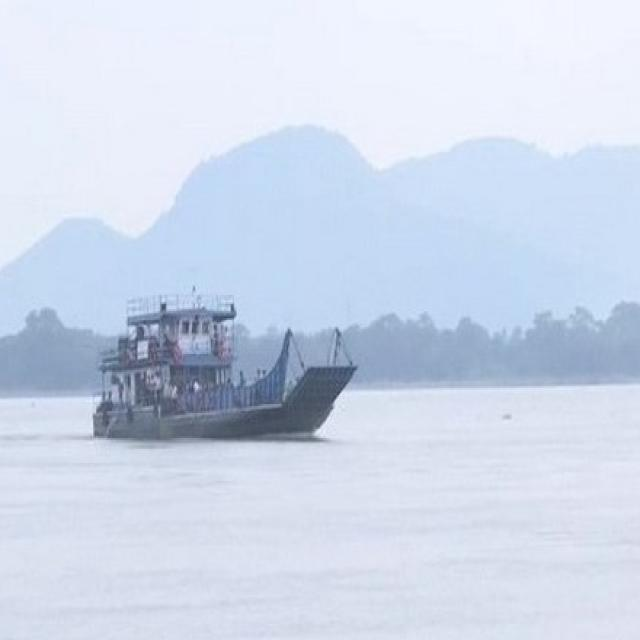fishing boat: (97, 289, 369, 443)
